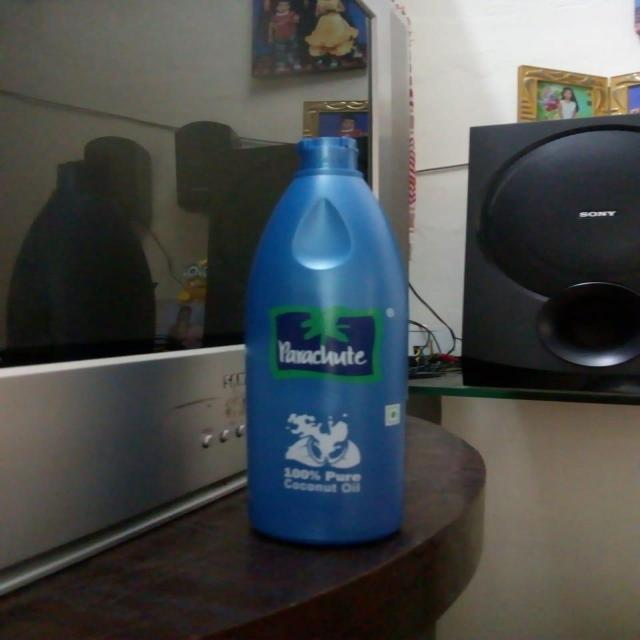parachute_oil: (220, 122, 440, 558)
